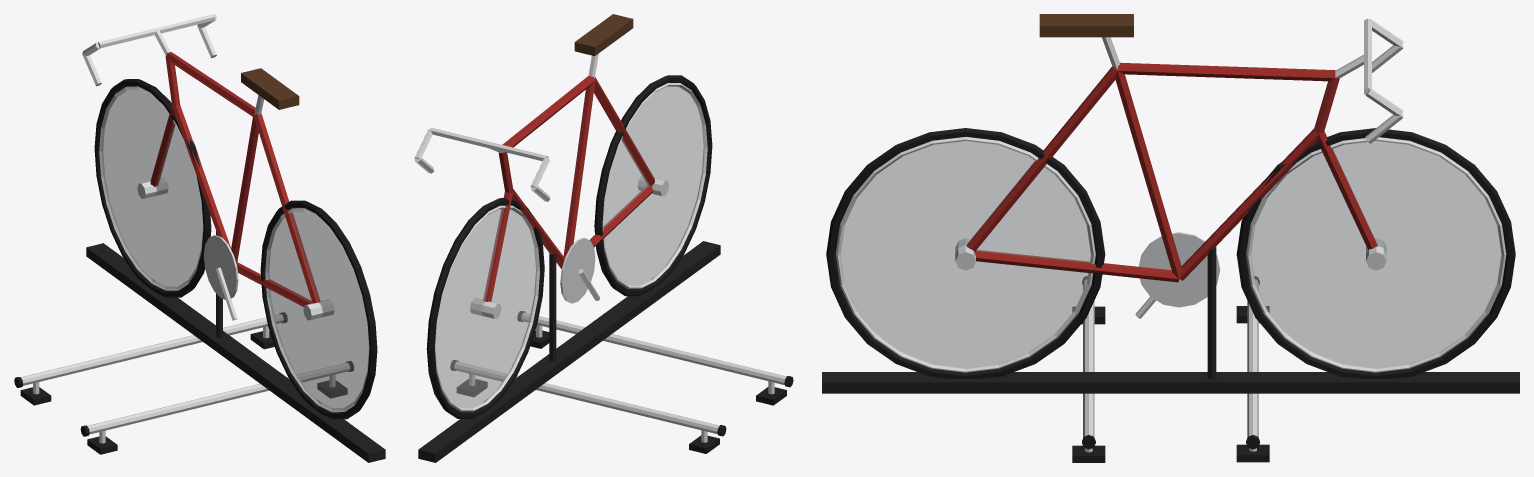
File: roofrack_bike_classic.glb
3 views of the same model, side by side, from view 1: azimuth 30°, elevation 25°; view 2: azimuth 150°, elevation 25°; view 3: azimuth 270°, elevation 25° (orthographic). The views are drawn at different scales.
Parts seen in each view (by area): view 1: Bike, Tray, RoofRack; view 2: Bike, Tray, RoofRack; view 3: Bike, Tray, RoofRack.
Part boxes in pixels (left/top/right/bottom): Bike: left=82, top=14, right=377, bottom=419; Tray: left=86, top=243, right=385, bottom=462; RoofRack: left=14, top=312, right=353, bottom=454; Bike: left=414, top=14, right=712, bottom=418; Tray: left=418, top=241, right=720, bottom=462; RoofRack: left=450, top=311, right=793, bottom=453; Bike: left=826, top=14, right=1515, bottom=379; Tray: left=822, top=372, right=1519, bottom=393; RoofRack: left=1072, top=276, right=1269, bottom=462.
Size of the model in its own units: 0.932 by 1.07 by 1.7.
